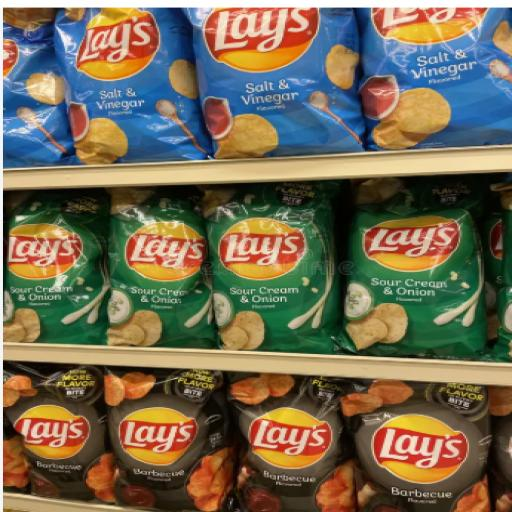green_chips: (205, 182, 339, 352), (342, 203, 486, 359), (342, 380, 491, 511), (106, 367, 235, 511), (229, 374, 356, 511), (107, 188, 215, 348), (3, 191, 109, 345), (3, 362, 117, 505), (62, 334, 132, 406), (134, 468, 185, 481), (423, 312, 456, 320)
